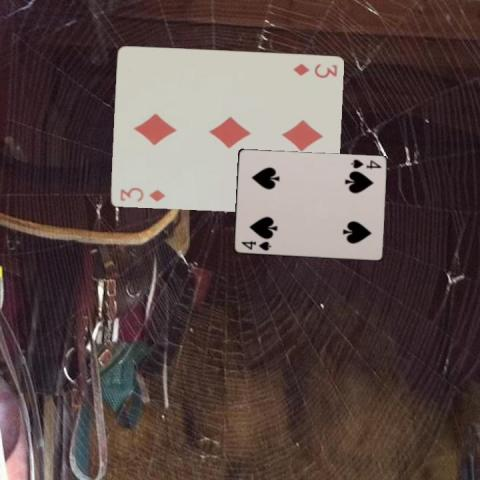3d: (117, 185, 166, 204), (290, 61, 338, 79)
4s: (347, 156, 382, 170), (238, 238, 272, 252)
